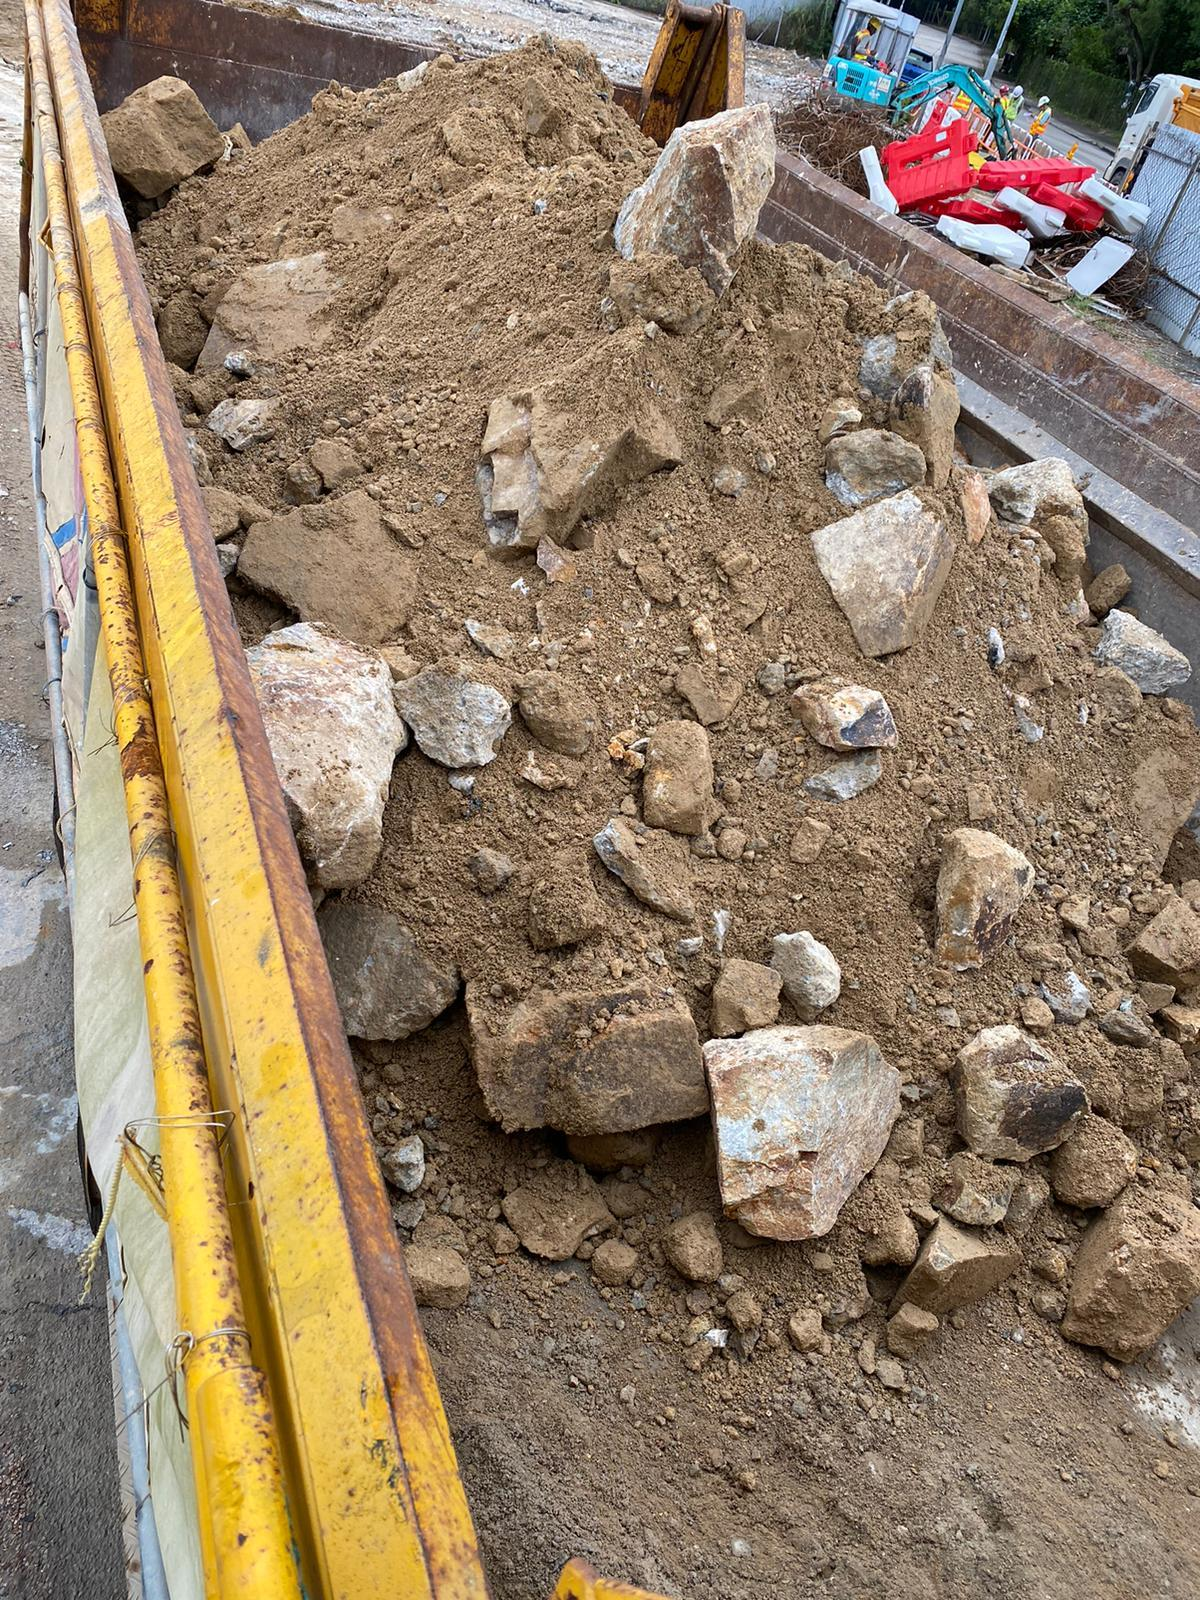dry: (308, 140, 720, 905)
